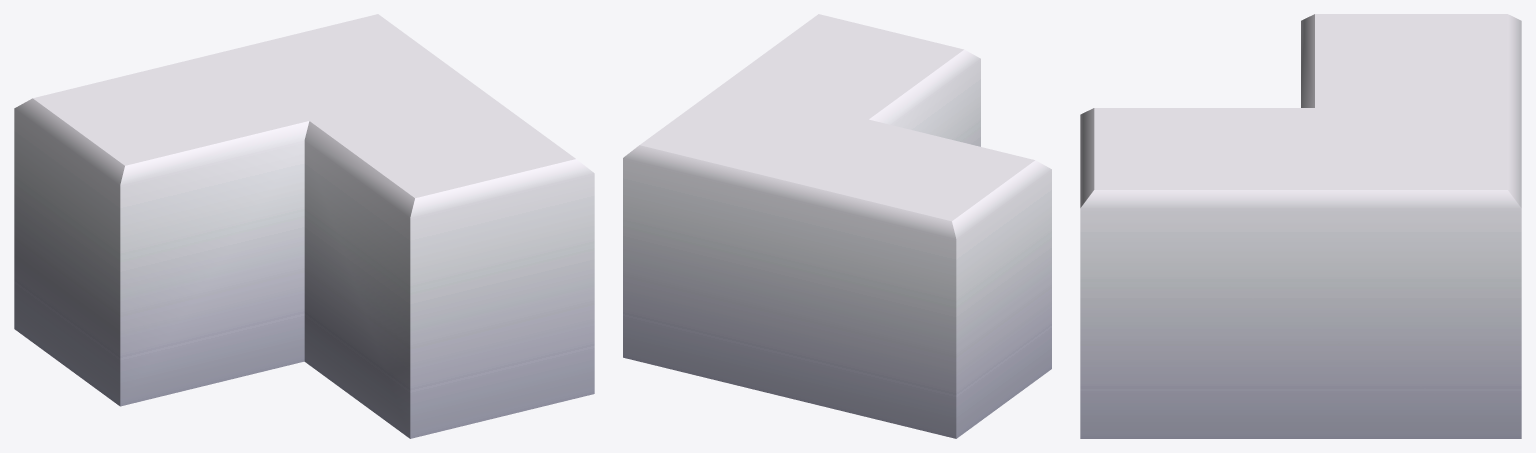
The model's file is none-hq-brick-corner.glb.
3 views of the same model, side by side, from view 1: azimuth 30°, elevation 25°; view 2: azimuth 150°, elevation 25°; view 3: azimuth 270°, elevation 25° (orthographic). The views are drawn at different scales.
Visible parts, largest first — view 1: none-hq-brick-corner; view 2: none-hq-brick-corner; view 3: none-hq-brick-corner.
Part boxes in pixels (x1,y1,x2,y2): none-hq-brick-corner: (14,14,594,438); none-hq-brick-corner: (623,14,1051,438); none-hq-brick-corner: (1080,14,1521,438).
Size of the model in its own units: 0.159 by 0.096 by 0.158.
1 material, 1 textured.
